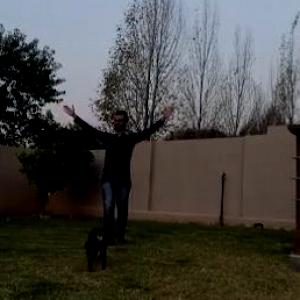takeoff: (52, 86, 191, 245)
